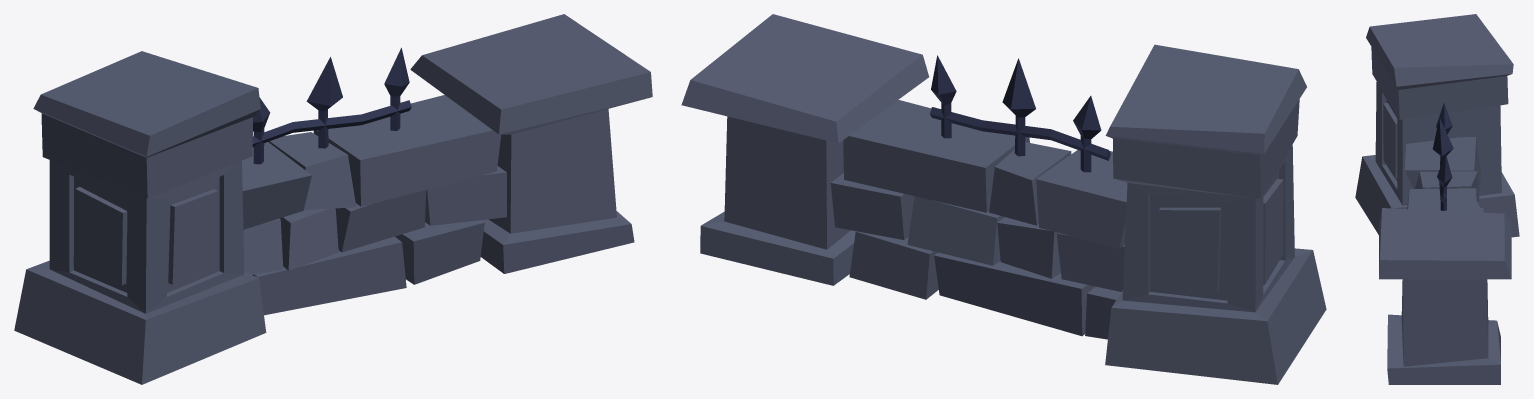
Rendered from stone_fence.fbx.
3 renders of one model, left to right at view 1: azimuth 30°, elevation 25°; view 2: azimuth 150°, elevation 25°; view 3: azimuth 270°, elevation 25°, orthographic. The views are drawn at different scales.
Parts seen in each view (by area): view 1: Cylinder.002; view 2: Cylinder.002; view 3: Cylinder.002.
Boxes of the visible parts, <box> form: Cylinder.002: <box>14,14,652,384</box>; Cylinder.002: <box>681,14,1326,384</box>; Cylinder.002: <box>1355,14,1519,384</box>.
Bounding box in the file's own units: 561 × 232 × 189.
